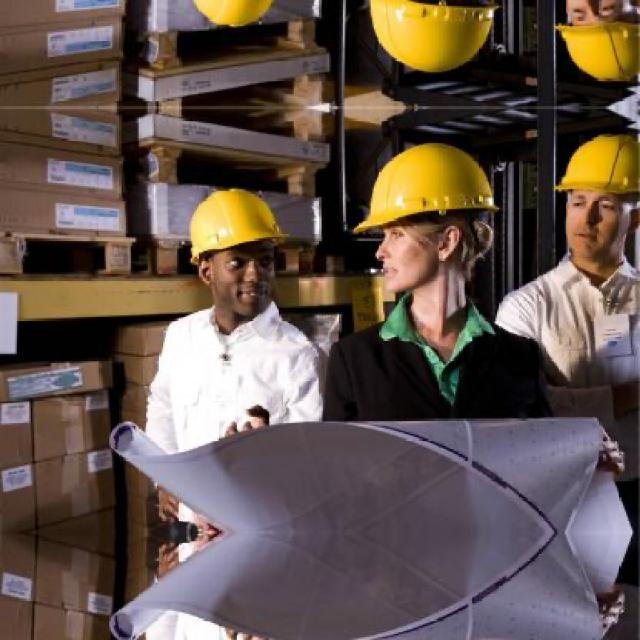helmet: (347, 119, 516, 312), (166, 166, 294, 326), (345, 0, 516, 95), (549, 109, 640, 280), (549, 0, 640, 105), (167, 0, 296, 48)
